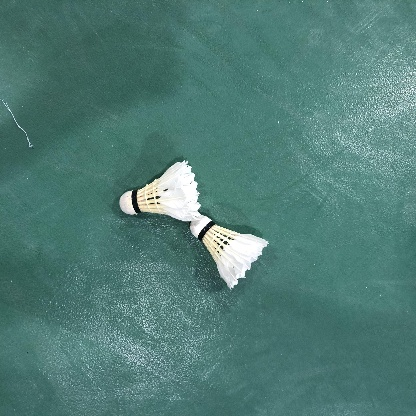ball_single: (190, 215, 269, 290), (119, 160, 201, 221)
